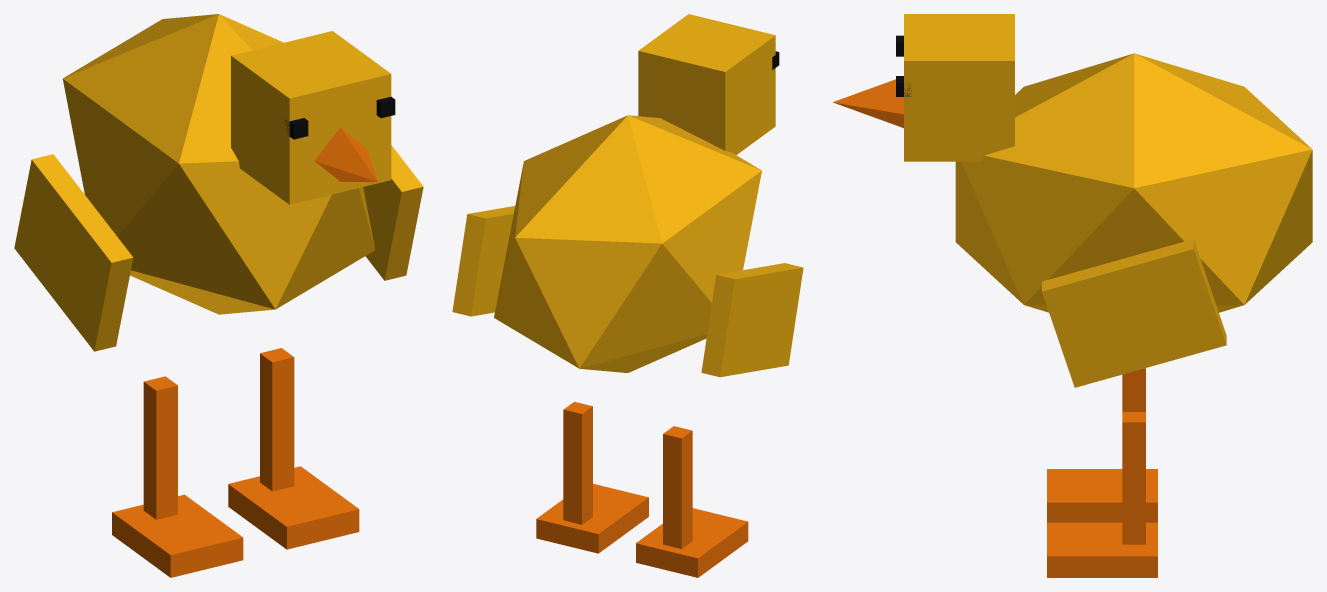
The model's file is duck.obj.
3 views of the same model, side by side, from view 1: azimuth 30°, elevation 25°; view 2: azimuth 150°, elevation 25°; view 3: azimuth 270°, elevation 25° (orthographic). The views are drawn at different scales.
Visible parts, largest first — view 1: duck; view 2: duck; view 3: duck.
Boxes of the visible parts, x1,y1,x2,y2 form: duck: (14,14,423,577); duck: (452,14,803,577); duck: (833,14,1312,577).
Bounding box in the file's own units: 0.387 × 0.621 × 0.5441.
